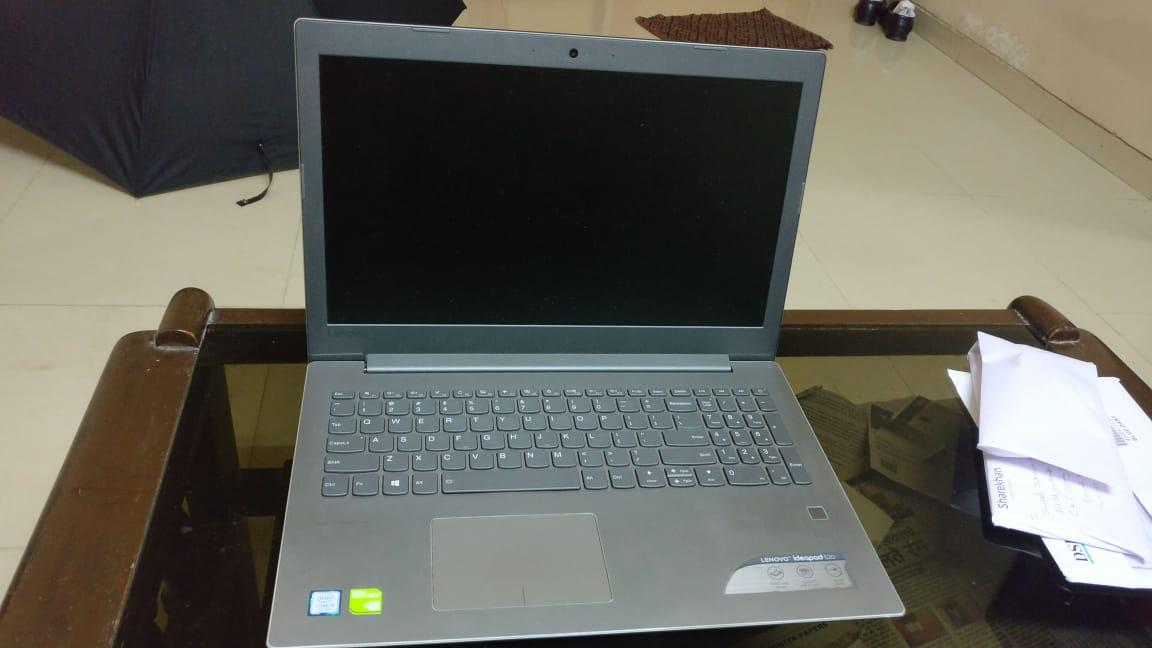laptop: (254, 4, 917, 648)
